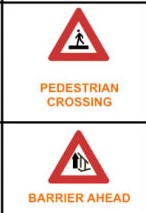Traffic signal: (47, 7, 111, 63), (48, 130, 109, 185)
